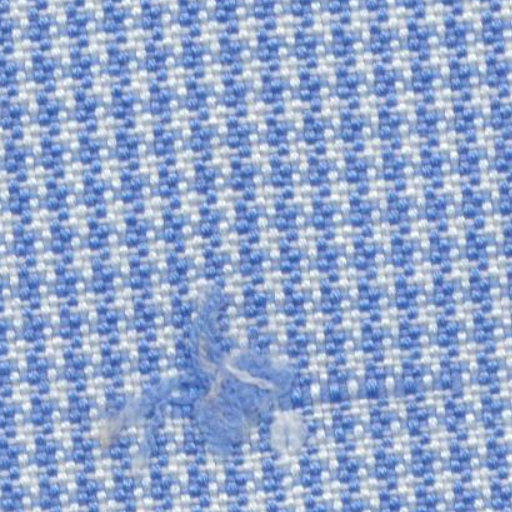MianQiu: (182, 334, 293, 446)
